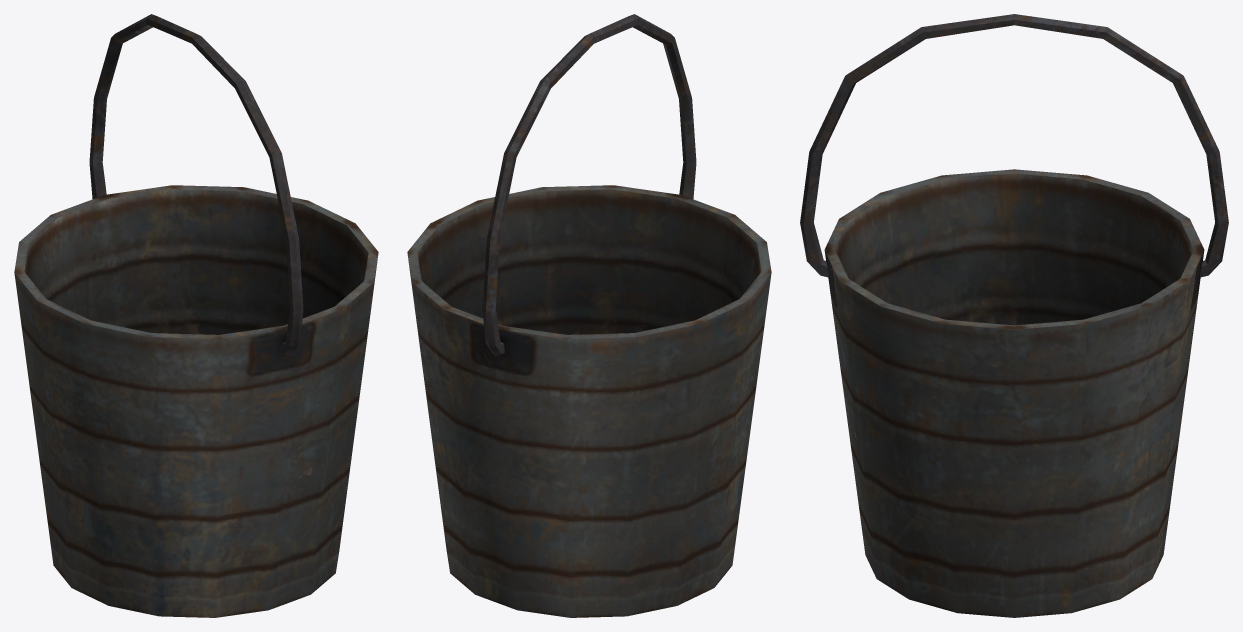
Rendered from 02_03_bucket_feces.dae.
3 renders of one model, left to right at view 1: azimuth 30°, elevation 25°; view 2: azimuth 150°, elevation 25°; view 3: azimuth 270°, elevation 25°, orthographic. The views are drawn at different scales.
Parts seen in each view (by area): view 1: Geometry_bucketNode, Geometry_handleNode; view 2: Geometry_bucketNode, Geometry_handleNode; view 3: Geometry_bucketNode, Geometry_handleNode.
Boxes of the visible parts, left/top/right/bottom form: Geometry_bucketNode: left=14, top=185, right=378, bottom=617; Geometry_handleNode: left=89, top=14, right=303, bottom=355; Geometry_bucketNode: left=407, top=185, right=771, bottom=617; Geometry_handleNode: left=482, top=14, right=696, bottom=355; Geometry_bucketNode: left=824, top=169, right=1204, bottom=617; Geometry_handleNode: left=800, top=14, right=1228, bottom=277.
Size of the model in its own units: 0.4236 by 0.6659 by 0.4783.
